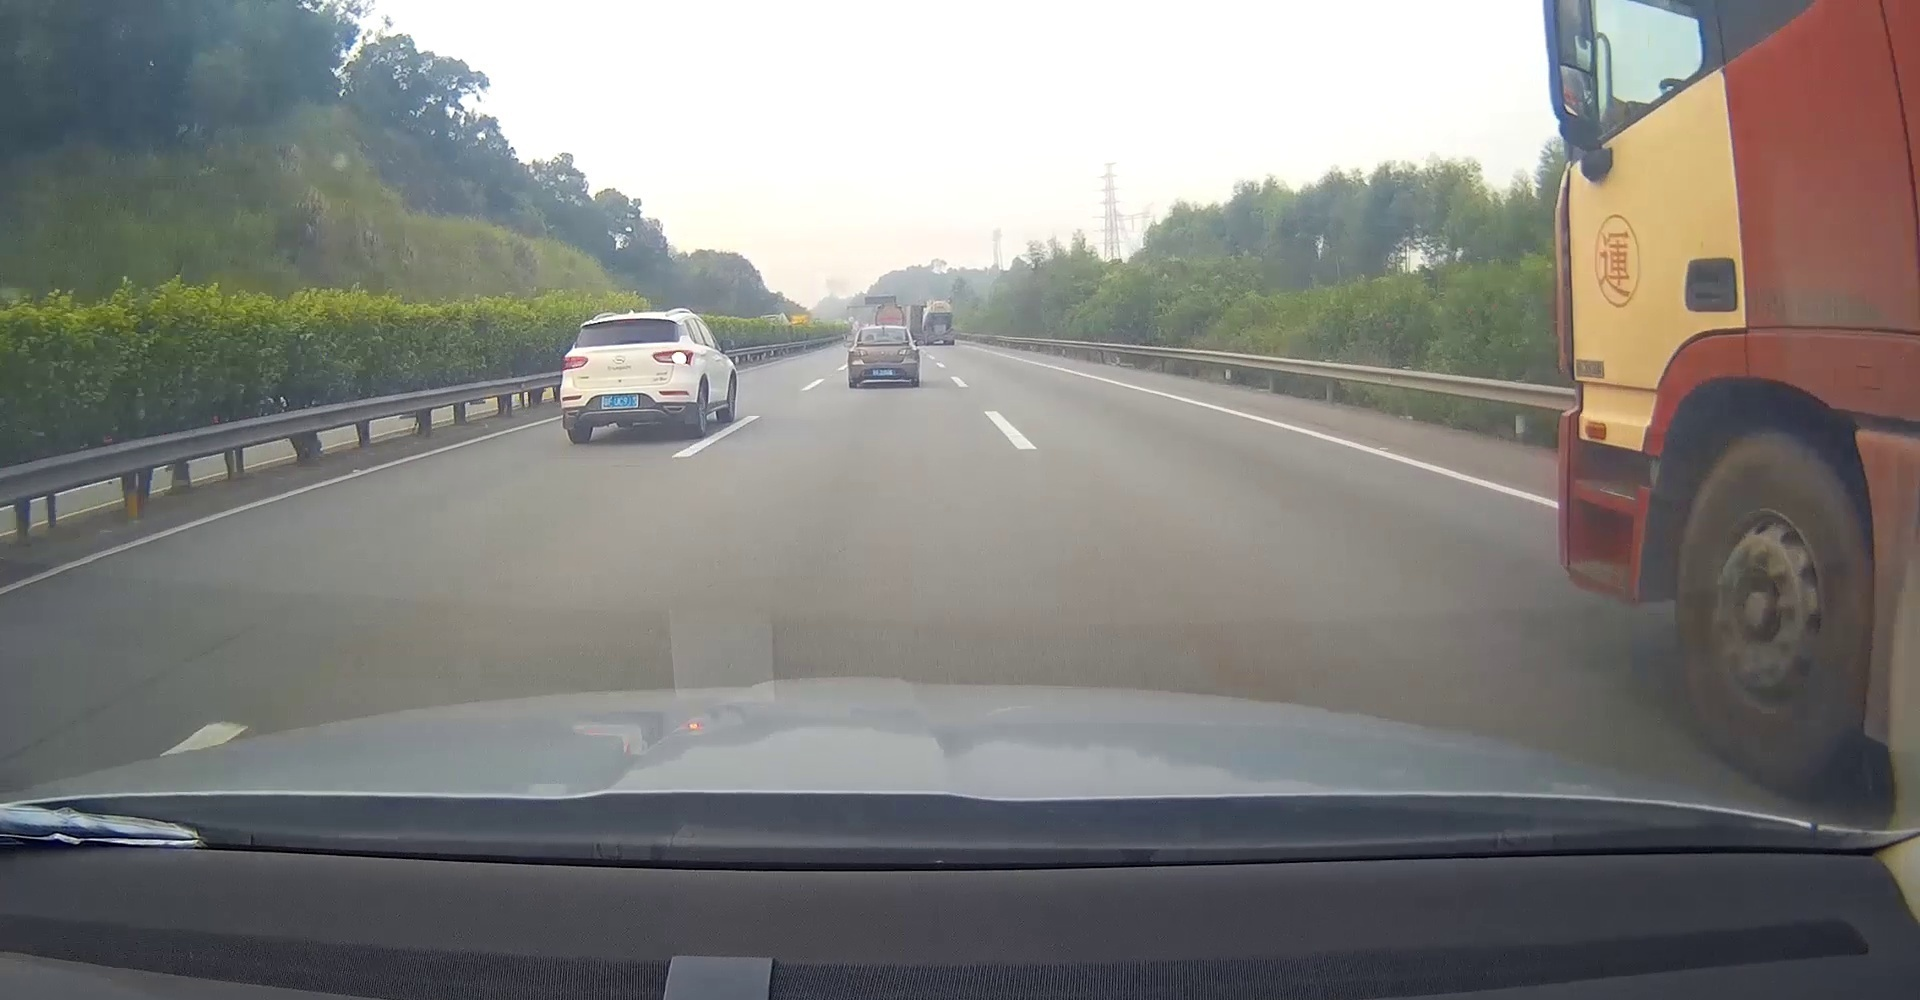L_light: (561, 357, 589, 368), (848, 349, 869, 357)
R_light: (651, 349, 693, 365), (898, 348, 917, 354)
T_light: (618, 320, 637, 322), (879, 327, 890, 330)
day-no: (848, 325, 919, 387)
day-right: (559, 308, 701, 444)
